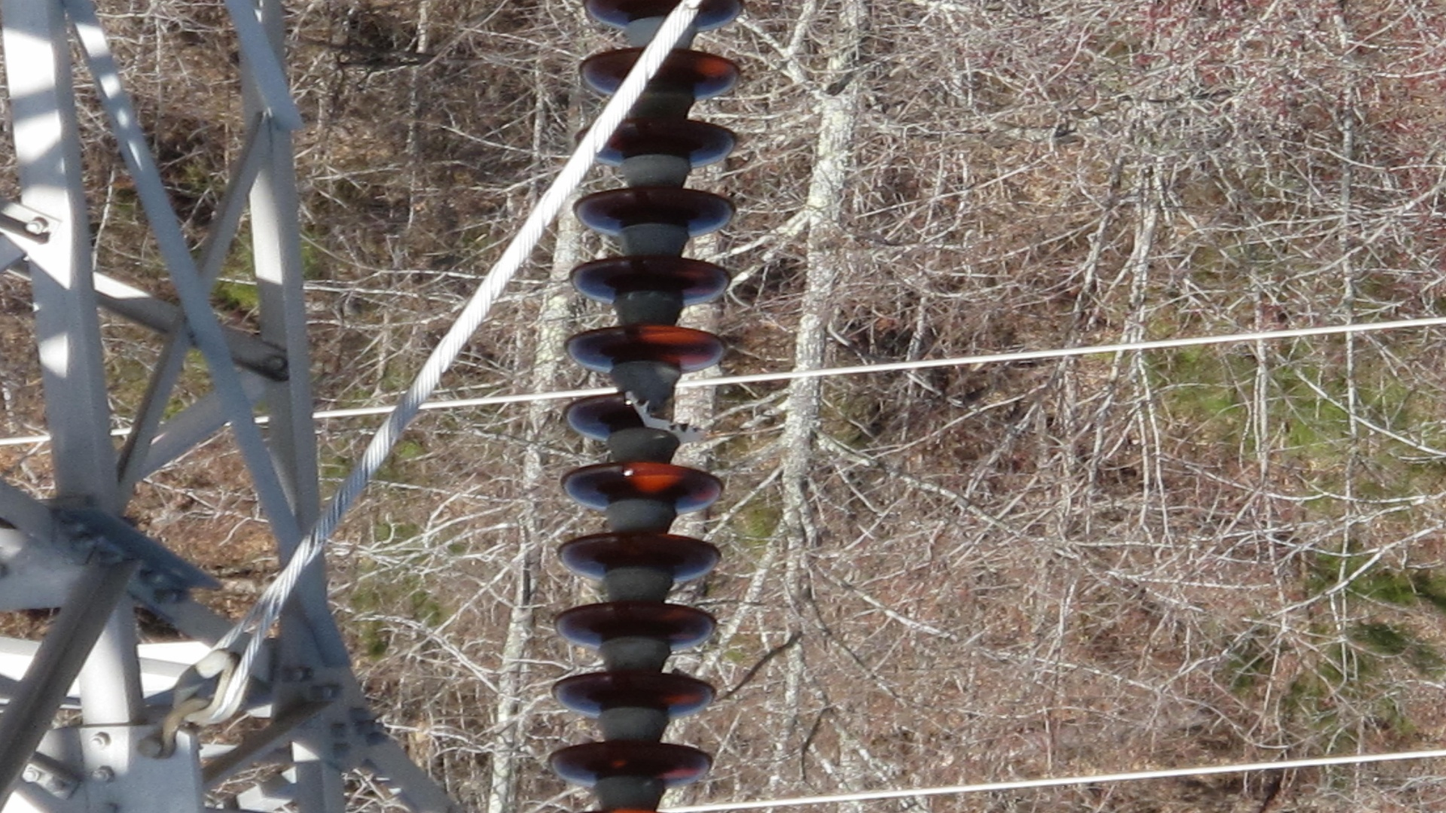insulator: (542, 1, 753, 793)
insulator_breakage: (619, 387, 709, 446)
